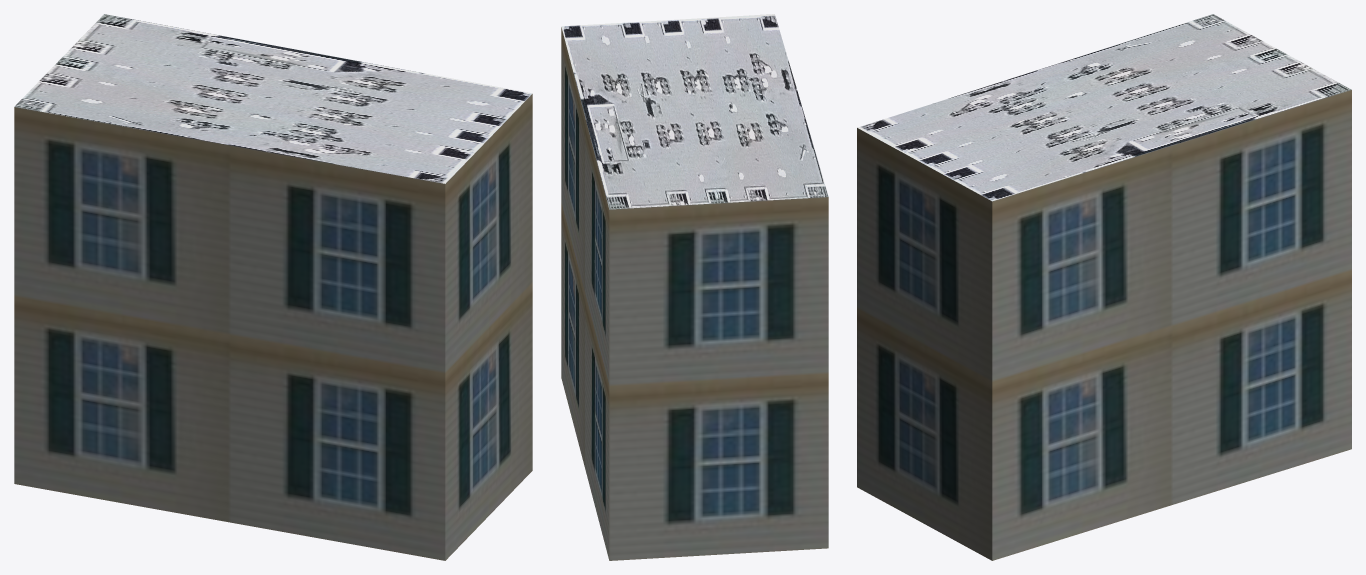
File: ResTex__2371.fbx
The picture shows the model from 3 angles, left to right: view 1: azimuth 30°, elevation 25°; view 2: azimuth 150°, elevation 25°; view 3: azimuth 270°, elevation 25°; orthographic projection. The views are drawn at different scales.
Parts seen in each view (by area): view 1: CityEngineMaterial_7_m, CityEngineMaterial_m; view 2: CityEngineMaterial_7_m, CityEngineMaterial_m; view 3: CityEngineMaterial_7_m, CityEngineMaterial_m.
Boxes of the visible parts, box(x1,y1,x2,y2) form: CityEngineMaterial_7_m: box(14, 94, 532, 560); CityEngineMaterial_m: box(14, 14, 532, 183); CityEngineMaterial_7_m: box(561, 27, 828, 560); CityEngineMaterial_m: box(561, 14, 828, 209); CityEngineMaterial_7_m: box(857, 89, 1351, 560); CityEngineMaterial_m: box(857, 14, 1351, 201).
Size of the model in its own units: 6.71 by 6 by 7.48.
Materials: 2 (2 with a texture image).
